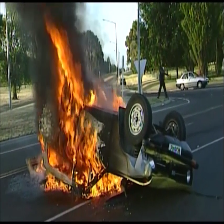fire_h: (38, 16, 107, 187), (80, 172, 122, 198), (44, 173, 72, 192)
fire_l: (112, 89, 126, 112), (35, 158, 46, 174), (38, 134, 45, 155)
